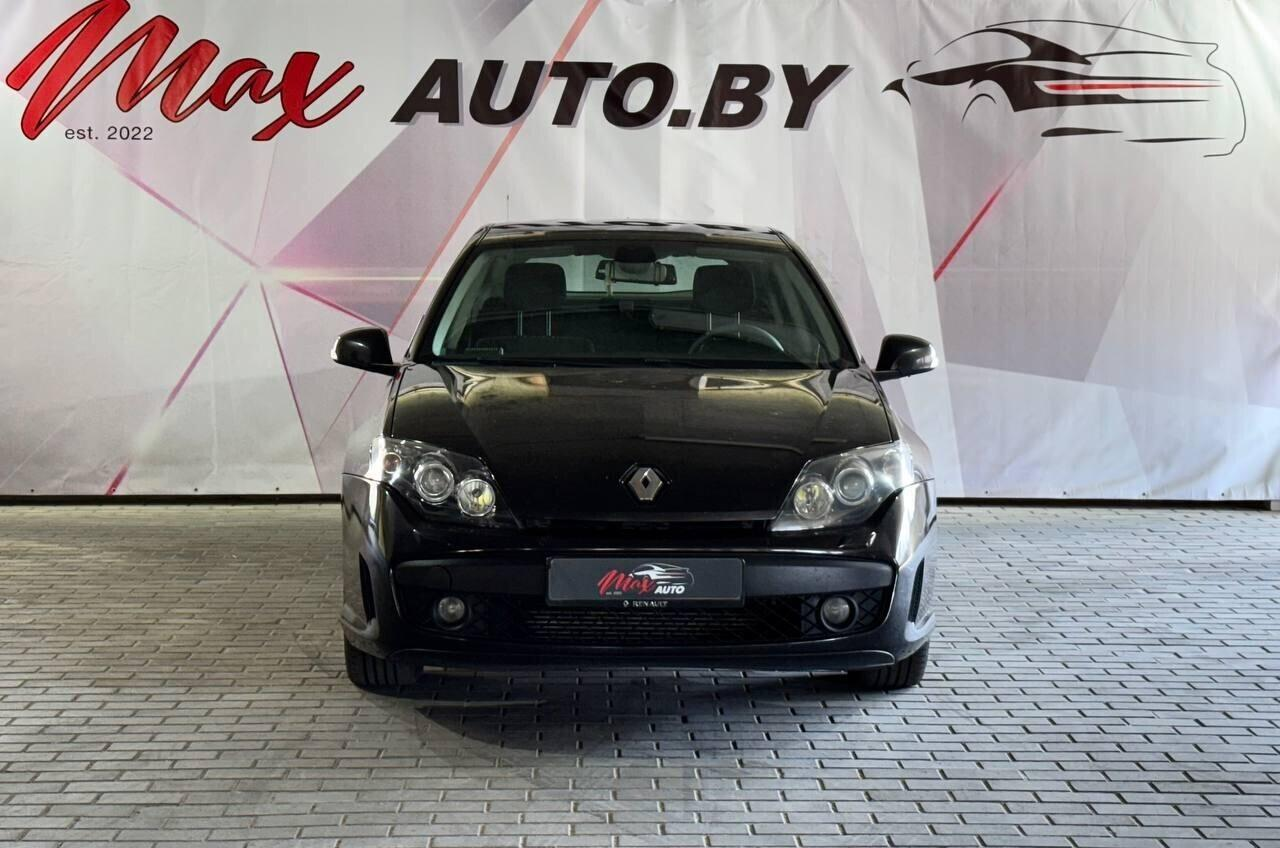Laguna_2007-2011: (331, 221, 939, 691)
